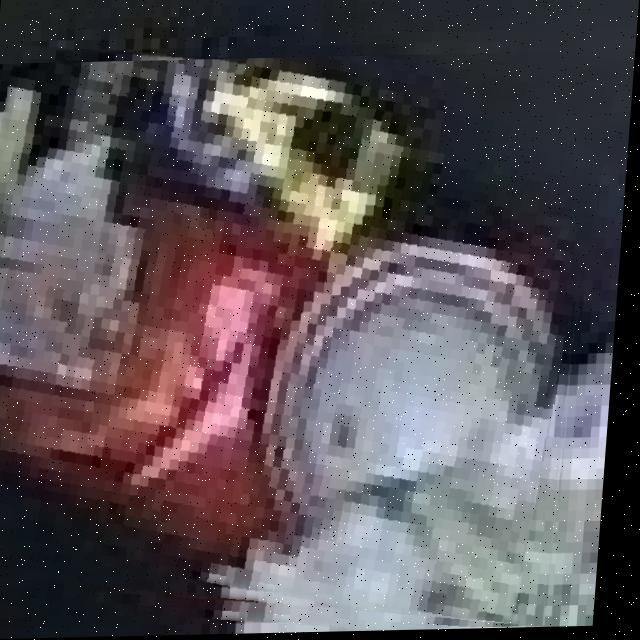can: (0, 58, 587, 617)
